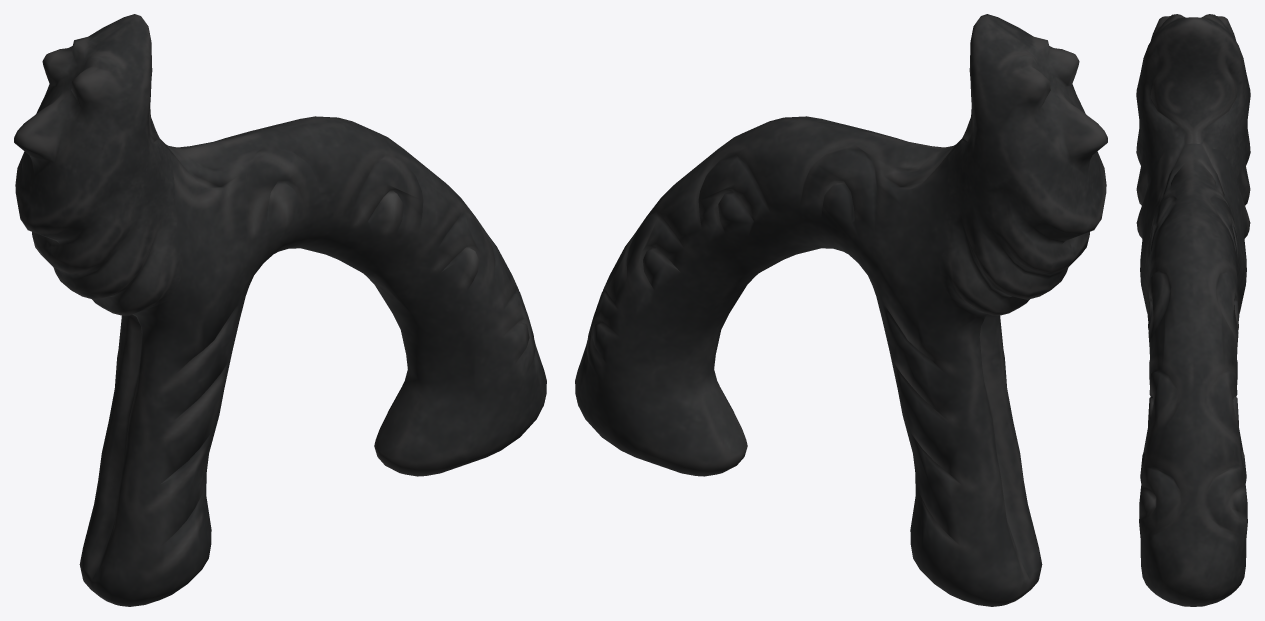
Rendered from SM_RoofOrnament02F.fbx.
3 views of the same model, side by side, from view 1: azimuth 30°, elevation 25°; view 2: azimuth 150°, elevation 25°; view 3: azimuth 270°, elevation 25° (orthographic). The views are drawn at different scales.
Visible parts, largest first — view 1: SM_RoofOrnament02F; view 2: SM_RoofOrnament02F; view 3: SM_RoofOrnament02F.
Part boxes in pixels (x1,y1,x2,y2): SM_RoofOrnament02F: (14, 14, 546, 606); SM_RoofOrnament02F: (575, 14, 1107, 606); SM_RoofOrnament02F: (1136, 14, 1250, 606).
Bounding box in the file's own units: 38.42 × 8.39 × 40.25.
